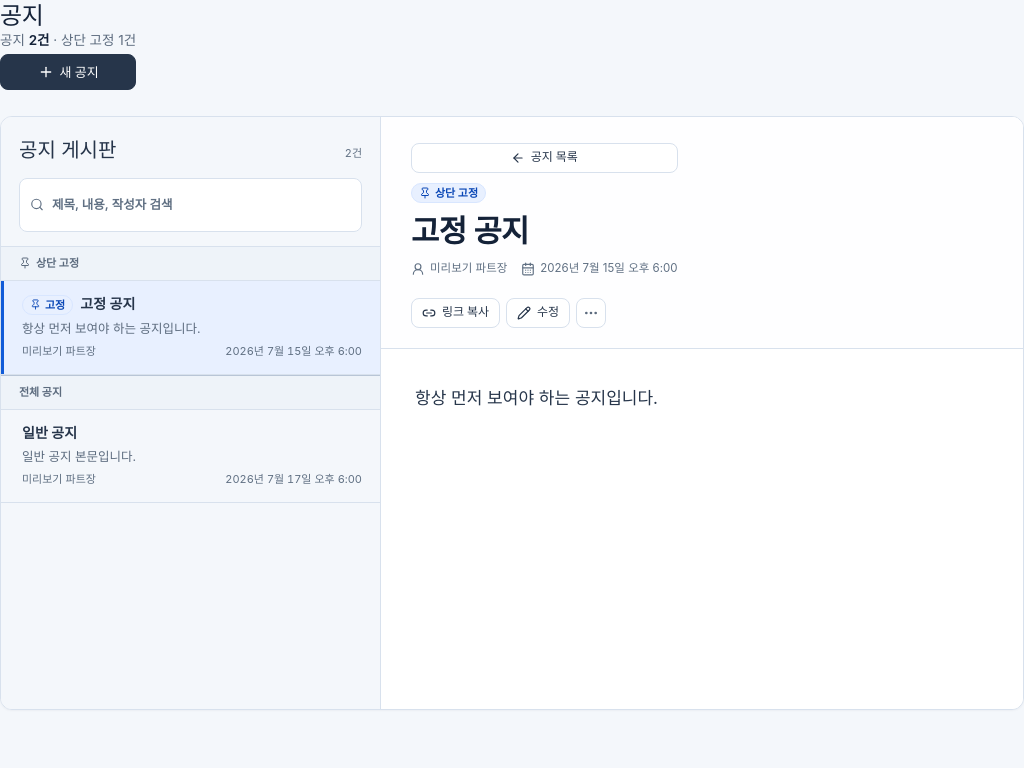
AnnouncementsPanel › shows inline errors instead of saving an empty notice
Click the button "새 공지" at (68, 72), box [0,54,136,90]
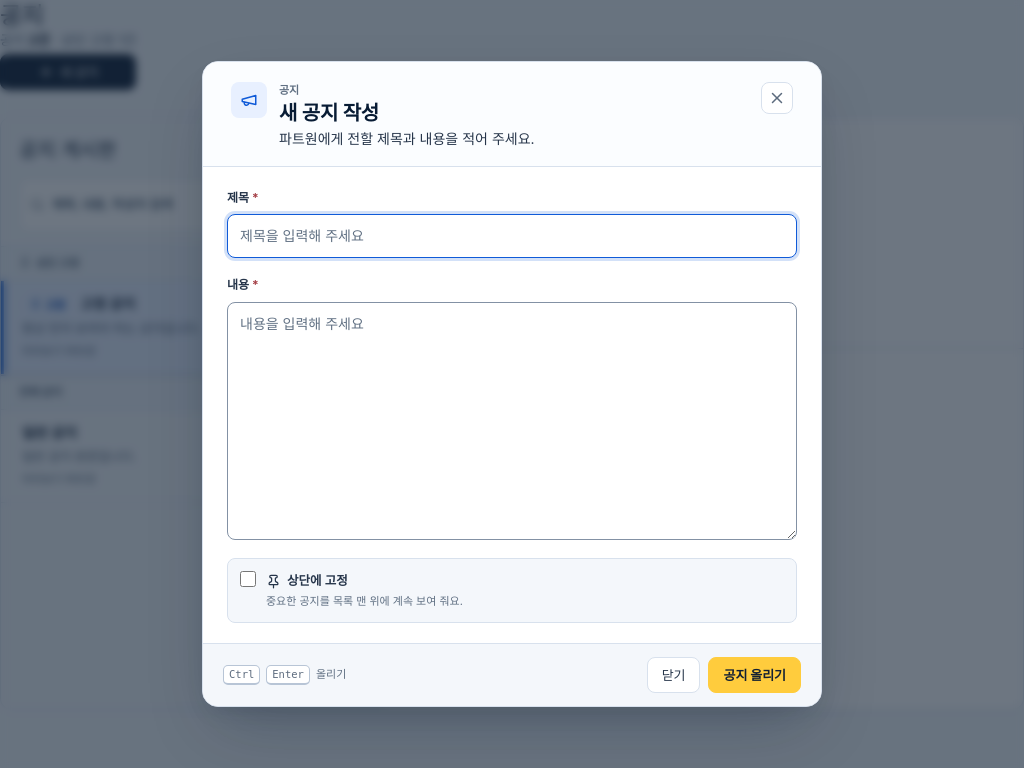
Click the button "공지 올리기" at (755, 675), box [708,657,801,693]
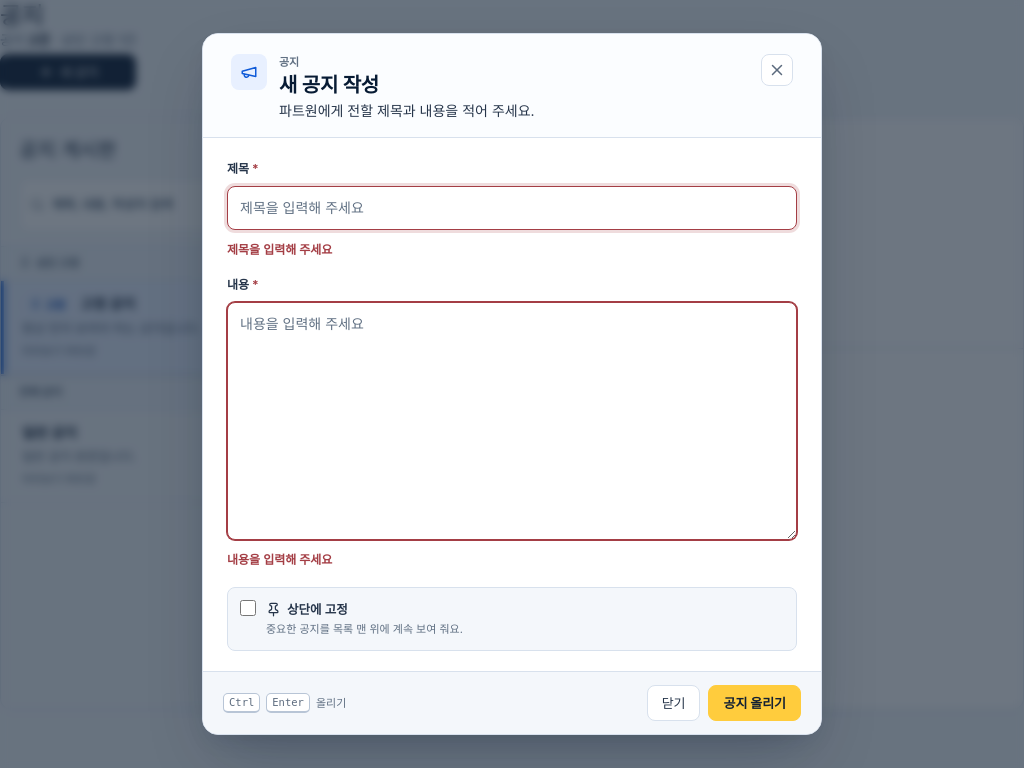
Expected: the text "제목을 입력해 주세요" is shown, [227,242,332,257]
